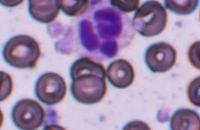N: (76, 0, 133, 61)
